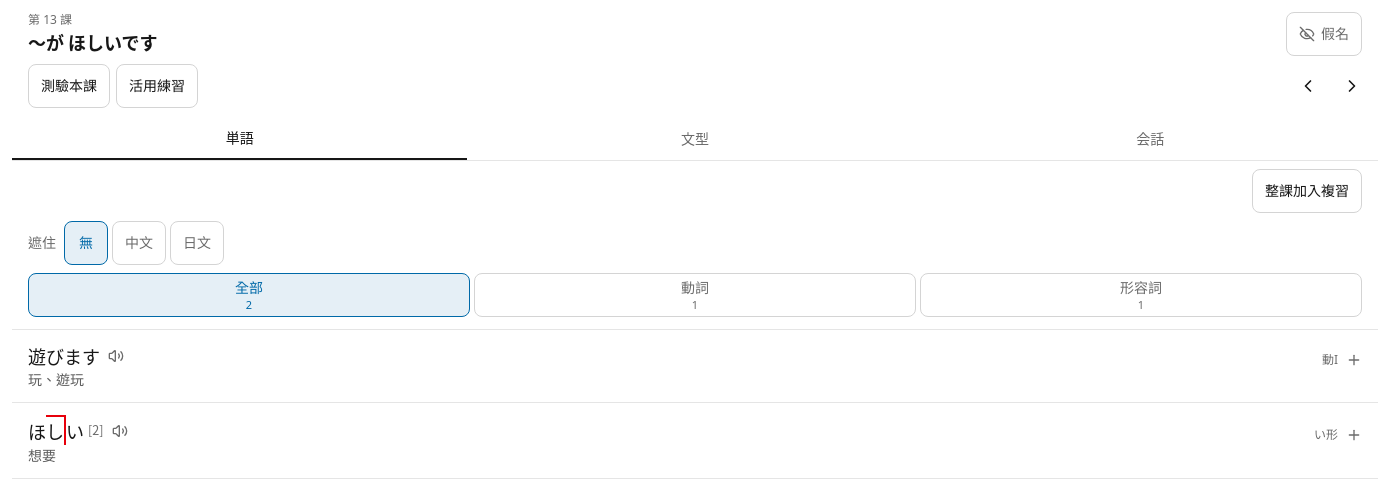
Test: LessonDetail › 全域隱藏時頁內可暫時顯示;頁內切換不寫回設定
This screenshot has width=1390, height=501.
Expected: the text "玩、遊玩" is shown, [28,370,84,389]
Click the button "假名": coordinates (1324, 34) [1286,12,1362,56]
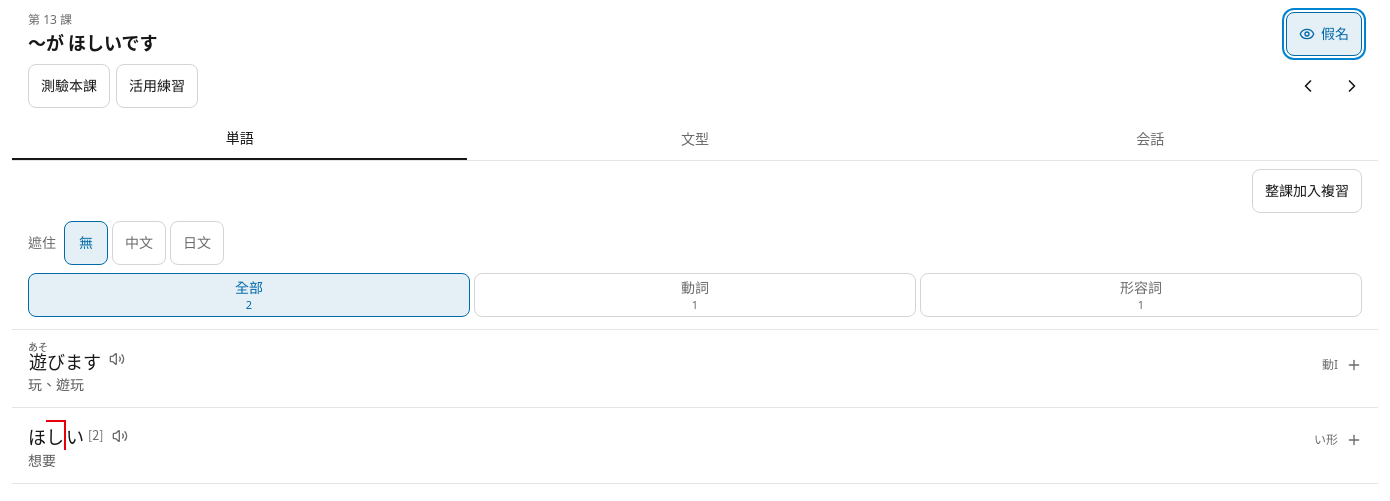
Result: the text "あそ" is shown at [28,339,48,354]
